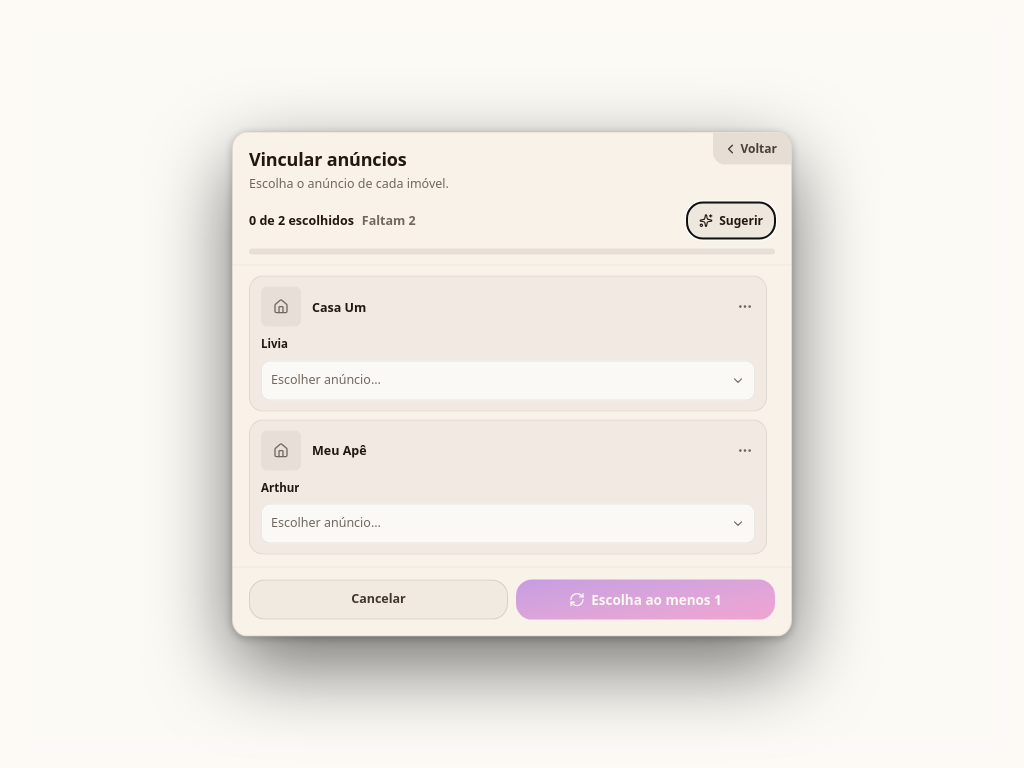
it: sincronizar em massa (de → para) › 'Não sincronizar' tira o imóvel da lista (e do aviso) e 'Desfazer' devolve
Expected: the heading "Vincular anúncios" is shown, [249,147,406,171]
Expected: the text "Escolher anúncio…" is shown 2 times, [271,371,381,388]; [271,514,381,531]
Press Enter in the button named "Mais ações" in the row of "Meu Apê", box [731,436,759,464]
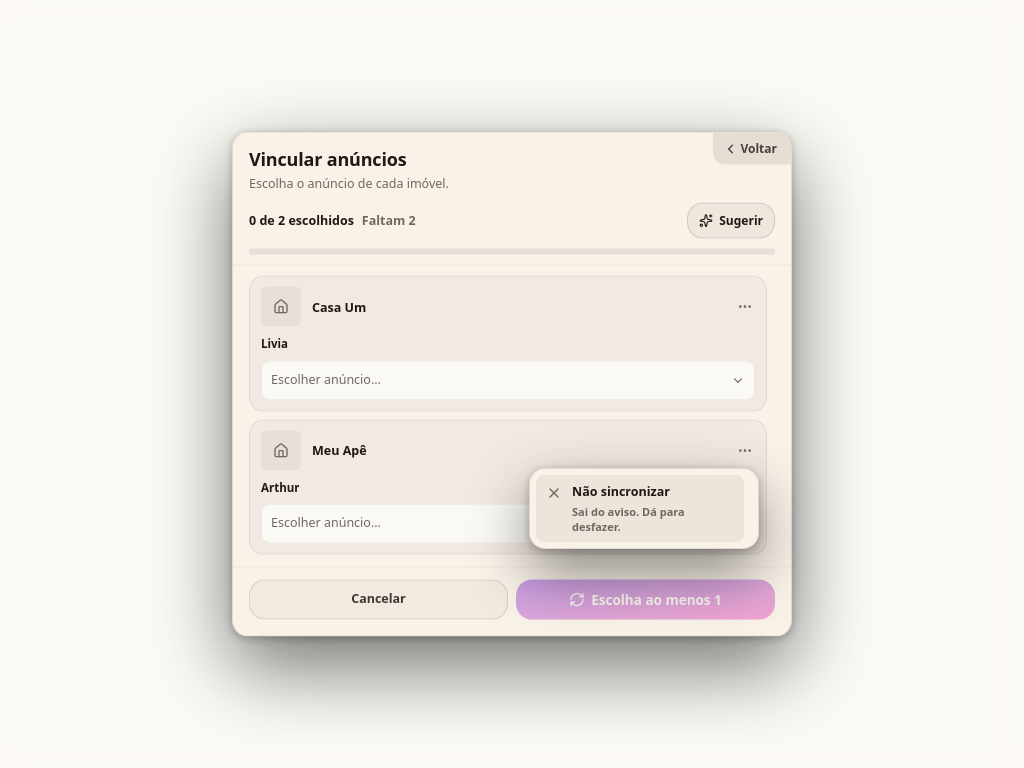
Click the text "Não sincronizar": (621, 492) [572,483,670,500]
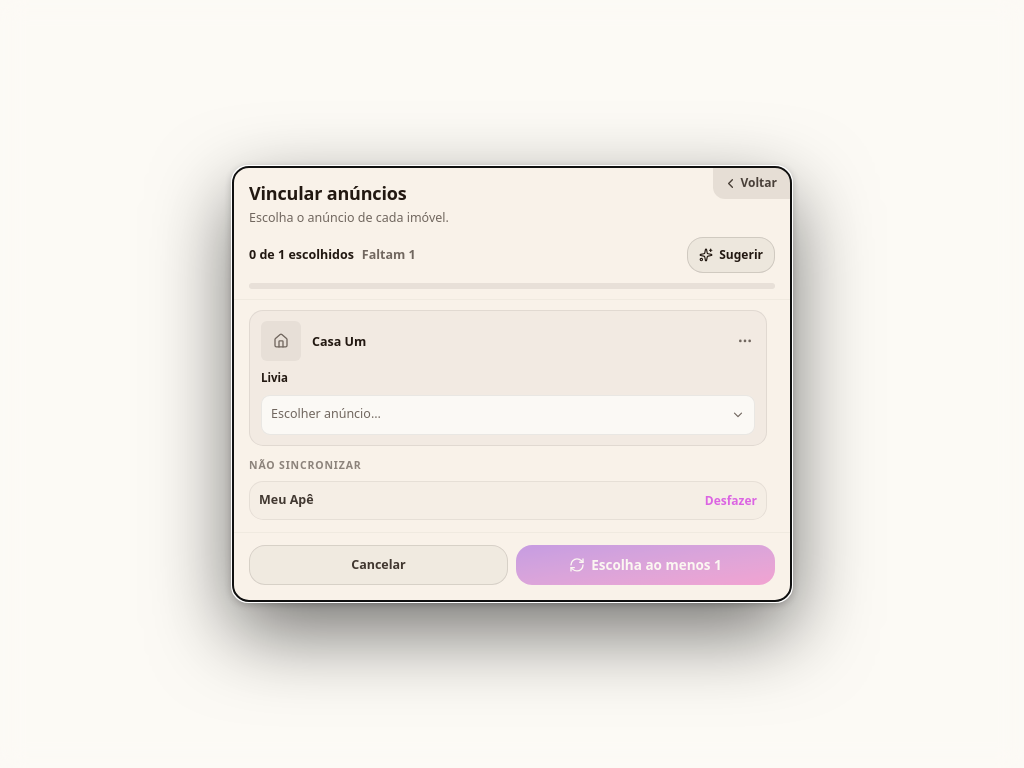
Expected: the number of buttons named "Mais ações" is 1, [731,327,759,355]
Result: the button "Desfazer" is shown
Click the button "Desfazer": (731, 501) [705,492,757,510]
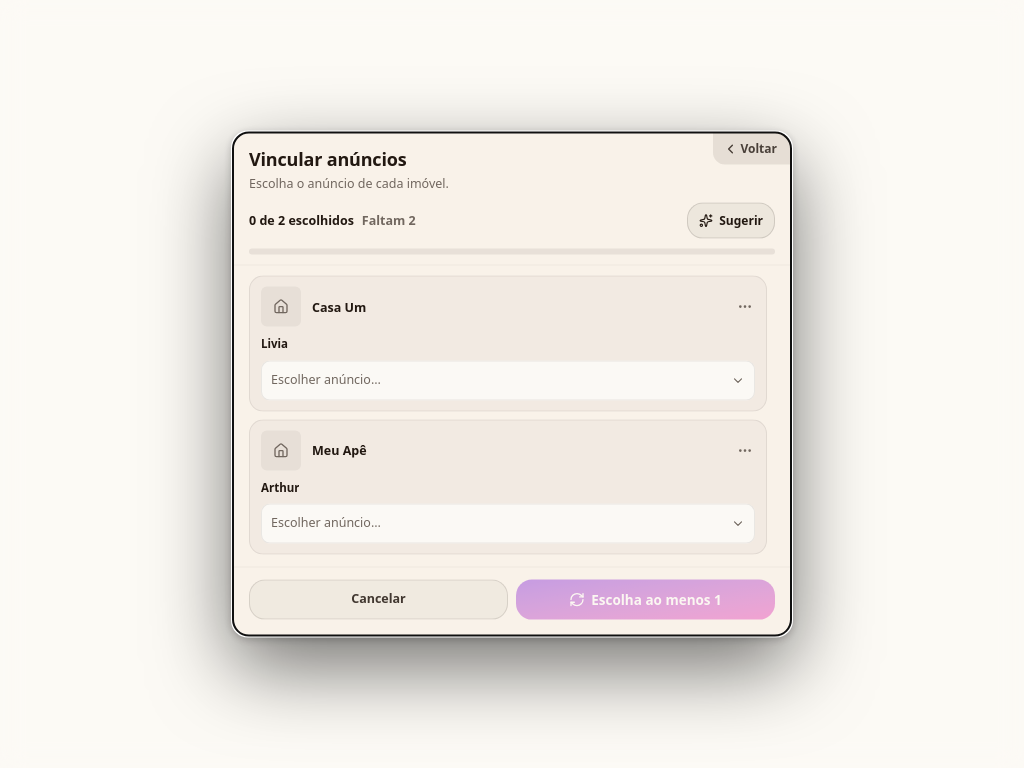
Expected: the number of buttons named "Mais ações" is 2, [731,293,759,321]; [731,436,759,464]
Result: the button "Desfazer" is gone
